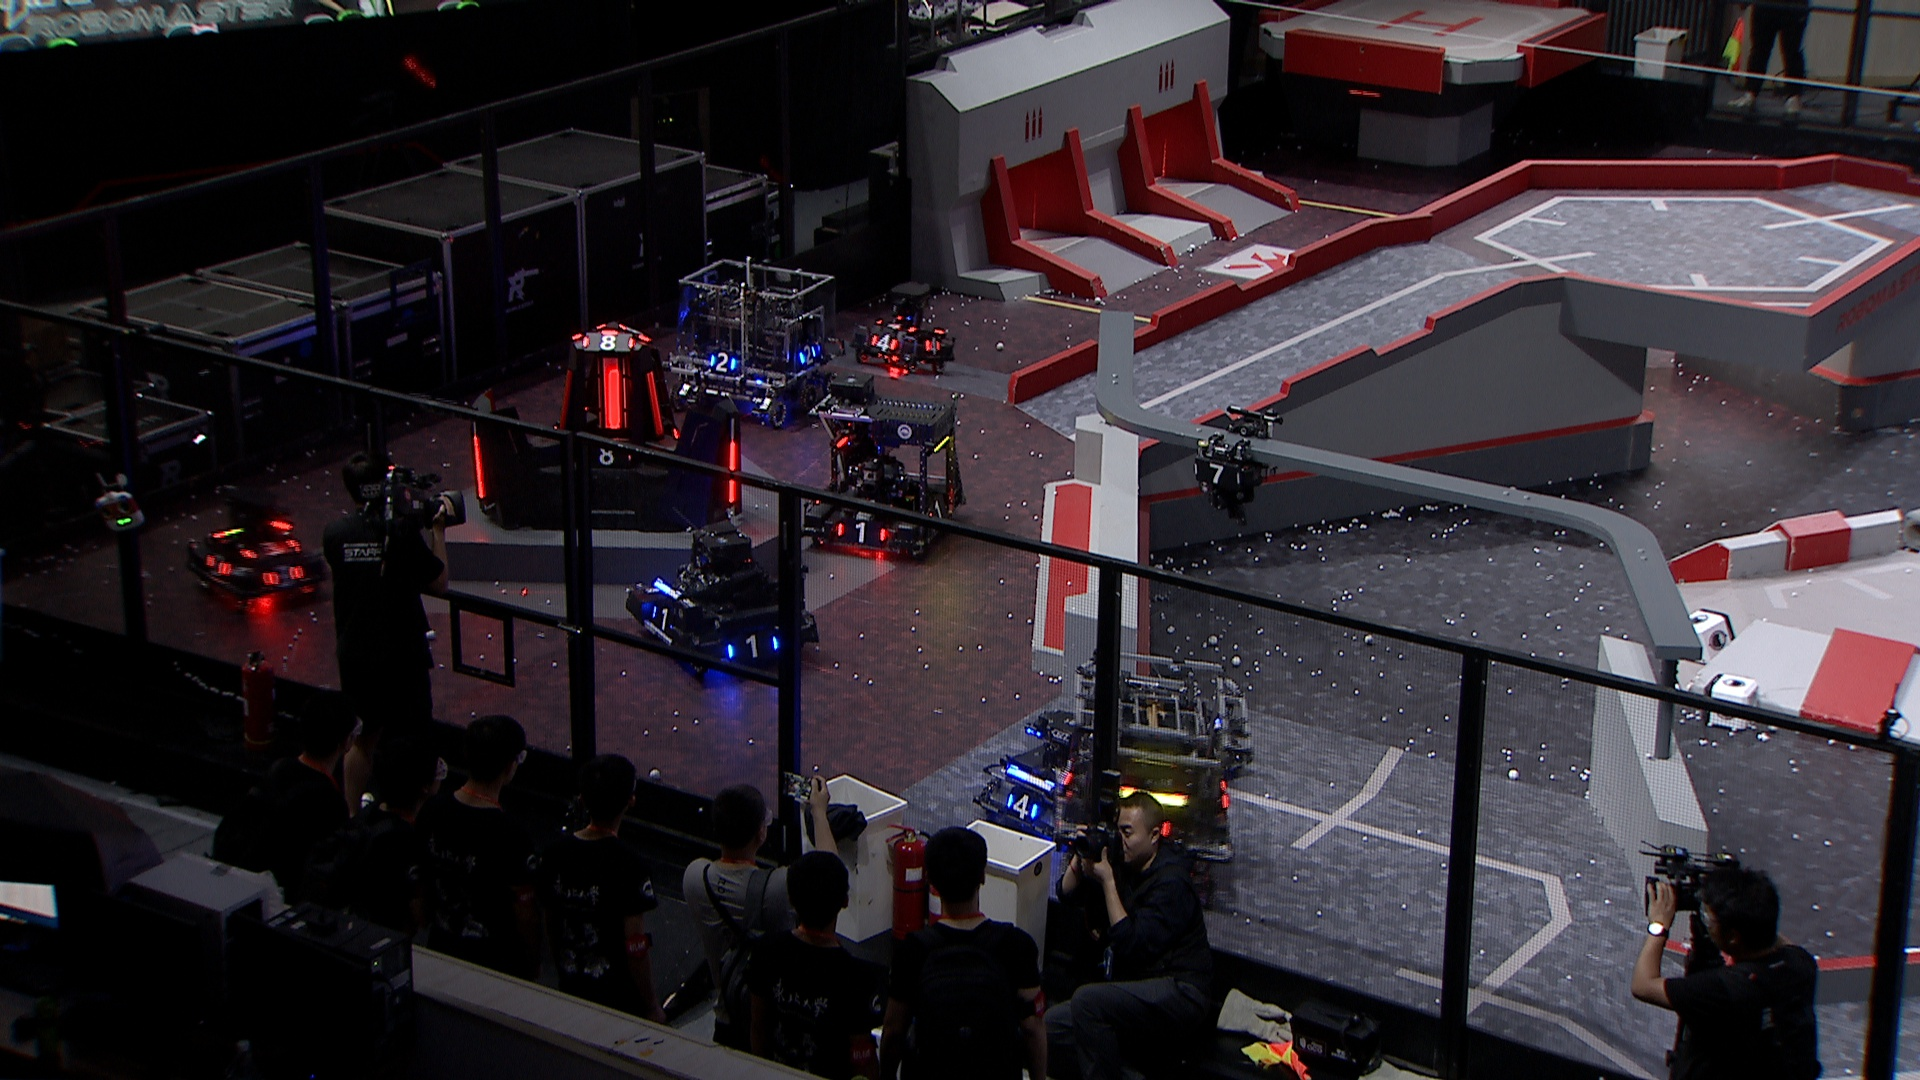armor: (597, 367, 629, 429), (723, 632, 782, 662), (833, 520, 891, 547), (645, 368, 667, 439), (239, 537, 301, 560), (588, 440, 633, 469), (723, 438, 741, 502), (471, 436, 489, 501), (1193, 462, 1244, 485), (261, 562, 301, 589), (556, 367, 574, 429), (579, 335, 636, 353), (1006, 793, 1040, 822), (204, 553, 233, 582), (651, 604, 680, 632), (873, 316, 920, 332), (1054, 757, 1077, 787), (869, 332, 901, 353), (708, 352, 737, 375), (926, 500, 951, 524), (795, 344, 818, 365), (922, 334, 942, 353)
base: (462, 319, 744, 531)
car: (1044, 650, 1255, 876), (796, 368, 967, 562), (622, 516, 822, 674), (667, 256, 833, 425), (973, 709, 1112, 836), (189, 484, 328, 605), (847, 280, 953, 377)
watcher: (1189, 401, 1288, 527)
